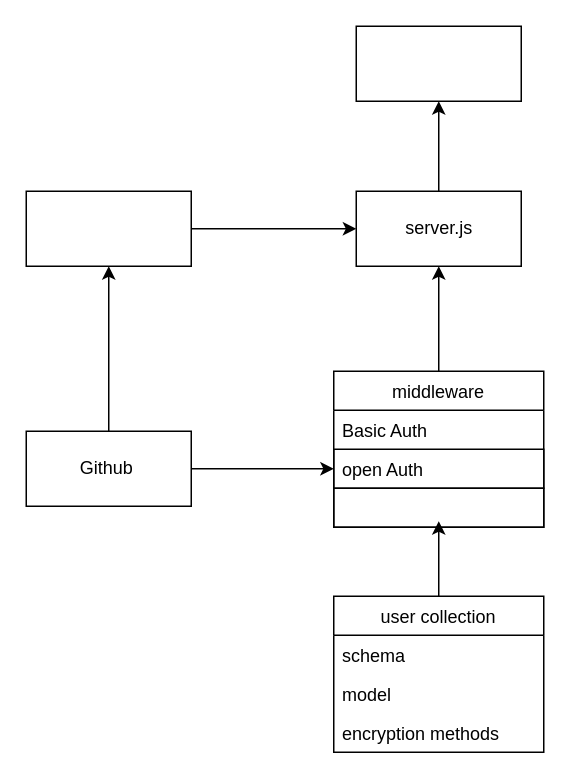
Image size: 570x783. Some labels were removed from this diagram. Each missing label, with the centre of its shape:
"Bearer Auth" belongs at (x=438, y=507).
"index.html" belongs at (x=108, y=228).
"index.js" belongs at (x=438, y=63).
